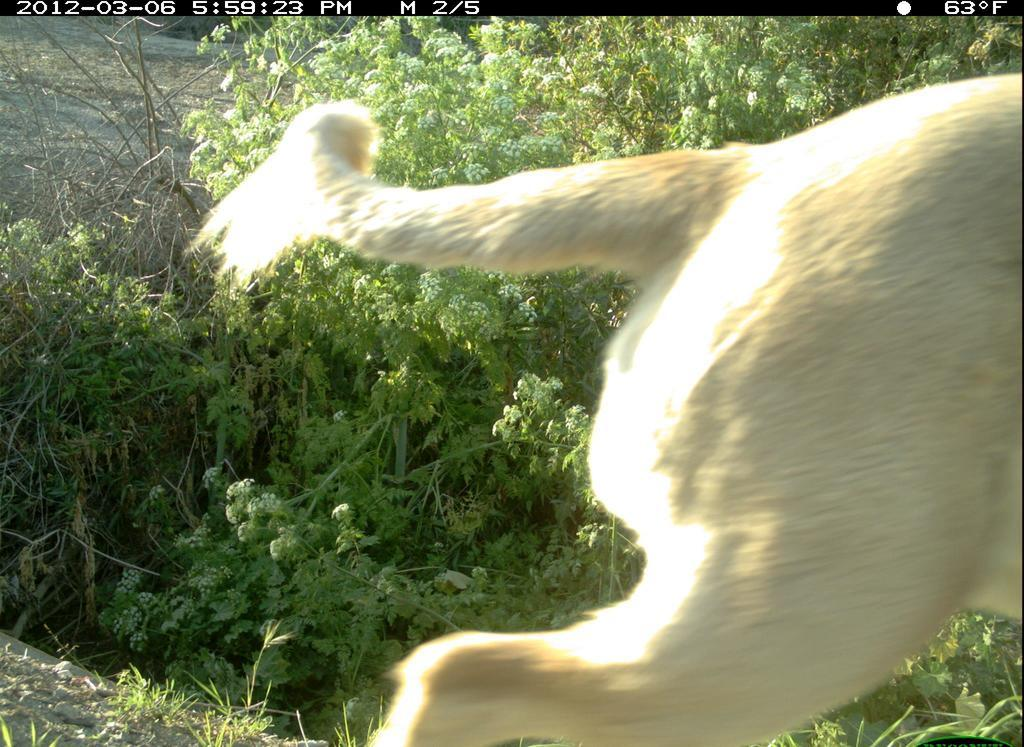dog: (189, 54, 1023, 747)
